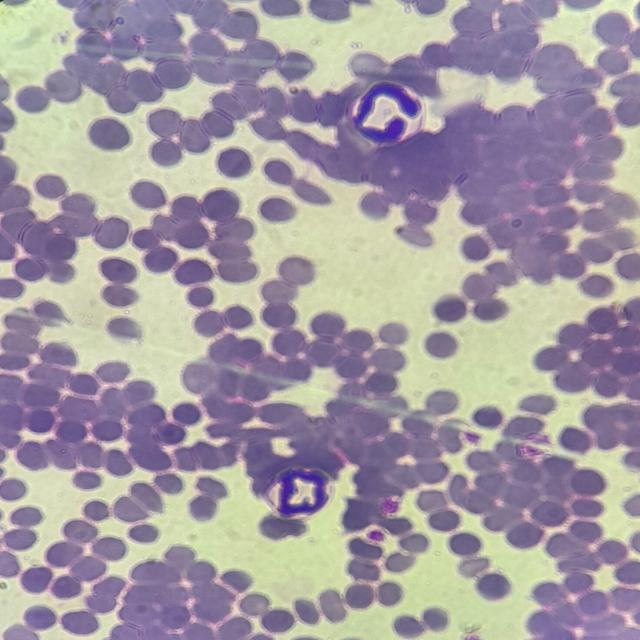Neutrofilo: (348, 79, 428, 146), (264, 468, 336, 519)
